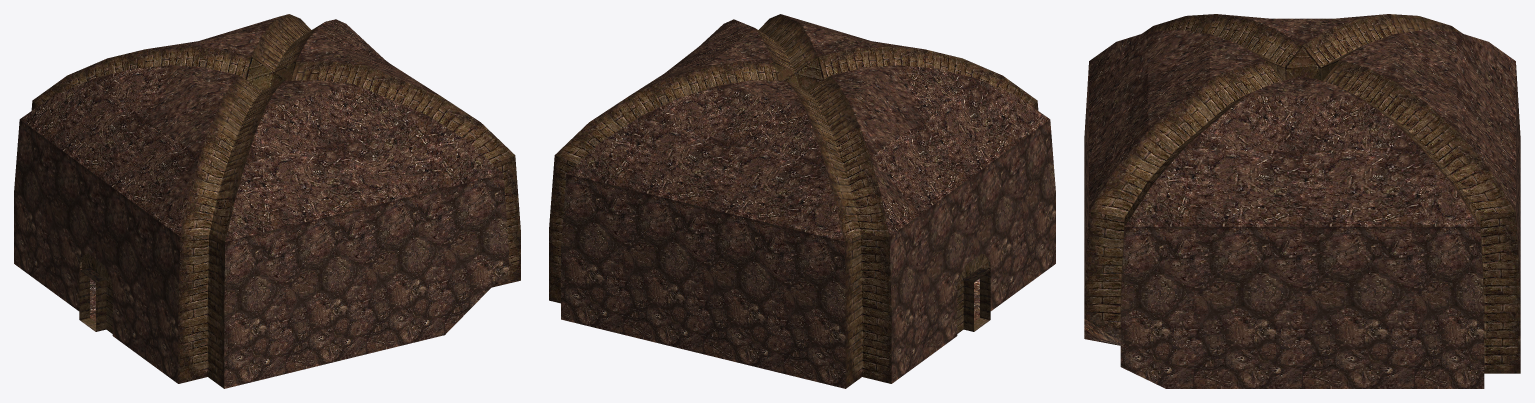
3 views of the same model, side by side, from view 1: azimuth 30°, elevation 25°; view 2: azimuth 150°, elevation 25°; view 3: azimuth 270°, elevation 25° (orthographic). The views are drawn at different scales.
Visible parts, largest first — view 1: node-038F46BA, node-03F379A2, node-02913A63; view 2: node-038F46BA, node-03F379A2, node-02913A63; view 3: node-03F379A2, node-038F46BA, node-02913A63, node-031B0D83.
Part boxes in pixels (<box>): node-038F46BA: <box>14,119,508,388</box>; node-03F379A2: <box>20,17,503,241</box>; node-02913A63: <box>31,14,520,388</box>; node-038F46BA: <box>561,119,1055,388</box>; node-03F379A2: <box>566,14,1049,241</box>; node-02913A63: <box>549,14,1038,388</box>; node-03F379A2: <box>1089,14,1515,226</box>; node-038F46BA: <box>1084,65,1520,388</box>; node-02913A63: <box>1084,14,1520,373</box>; node-031B0D83: <box>1084,319,1120,345</box>.
Size of the model in its own units: 740 by 439 by 720.
4 materials, 4 textured.
